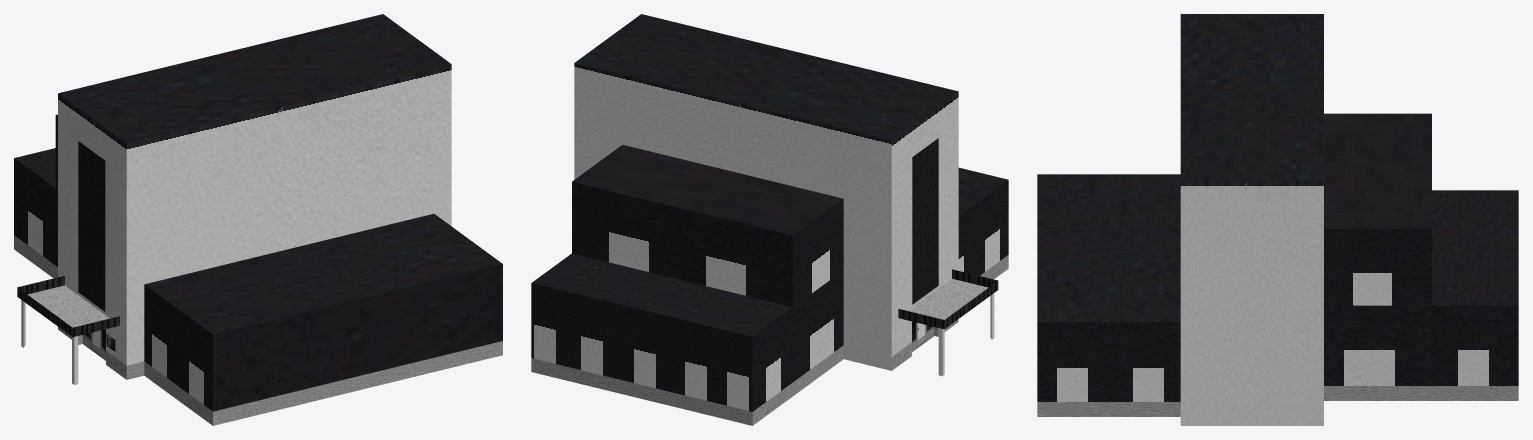
Rendered from PolitiStasjonV4.glb.
3 renders of one model, left to right at view 1: azimuth 30°, elevation 25°; view 2: azimuth 150°, elevation 25°; view 3: azimuth 270°, elevation 25°, orthographic. The views are drawn at different scales.
Parts seen in each view (by area): view 1: PolitiStasjon; view 2: PolitiStasjon; view 3: PolitiStasjon.
Part boxes in pixels (x1,y1,x2,y2): PolitiStasjon: (14,14,502,425); PolitiStasjon: (531,14,1008,425); PolitiStasjon: (1037,14,1518,425).
Bounding box in the file's own units: 54.5 × 33.07 × 58.44.
21 materials, 15 textured.
